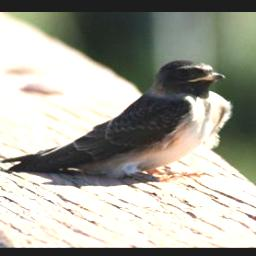Swallow: (0, 58, 233, 183)
